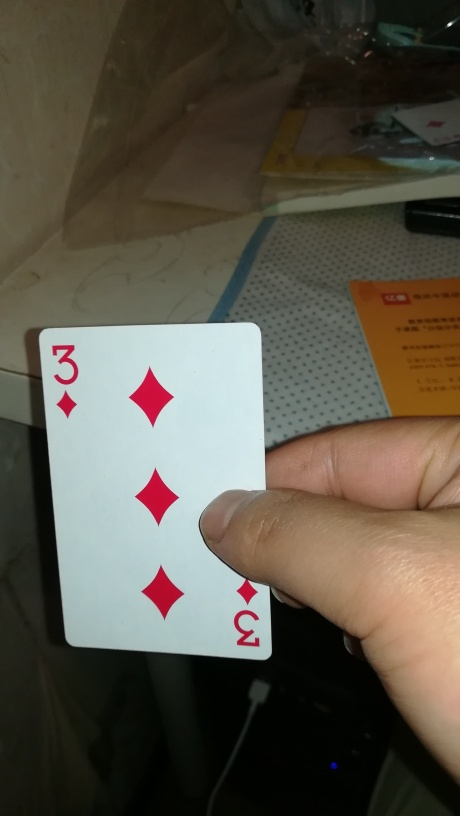fk 3: (37, 321, 276, 659)
